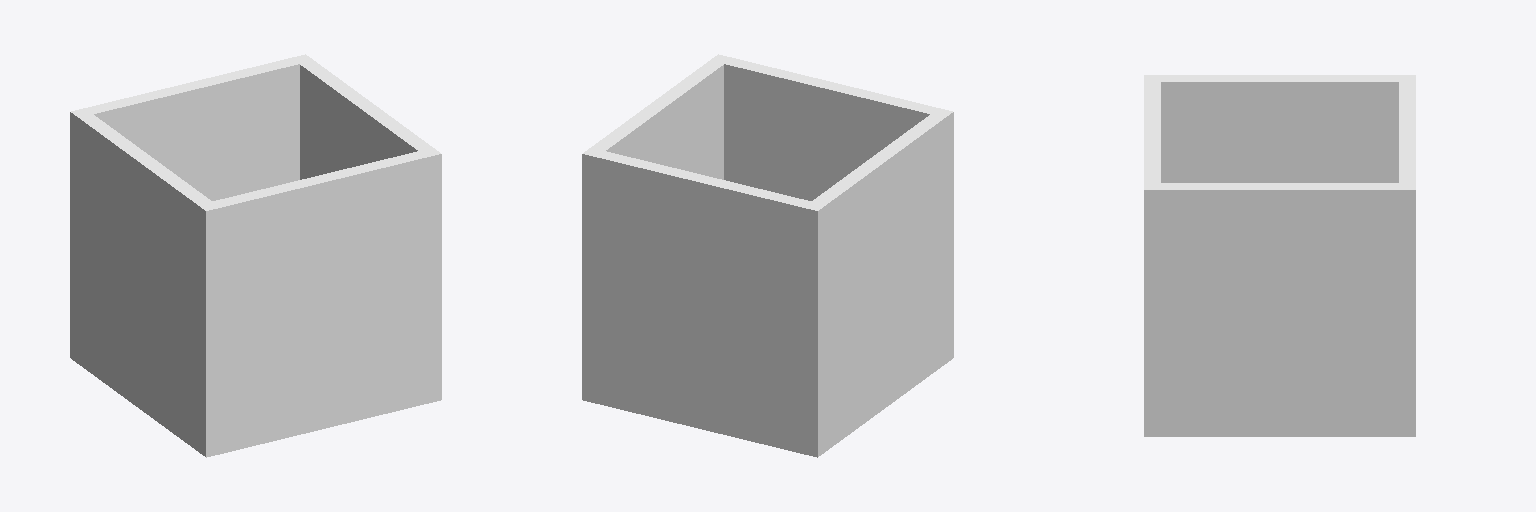
File: freezer.obj
3 renders of one model, left to right at view 1: azimuth 30°, elevation 25°; view 2: azimuth 150°, elevation 25°; view 3: azimuth 270°, elevation 25°, orthographic.
Parts seen in each view (by area): view 1: object 1; view 2: object 1; view 3: object 1.
Boxes of the visible parts, x1,y1,x2,y2 form: object 1: [70, 54, 441, 457]; object 1: [582, 54, 953, 457]; object 1: [1144, 75, 1415, 436].
Bounding box in the file's own units: 3.2 × 3.2 × 3.2.